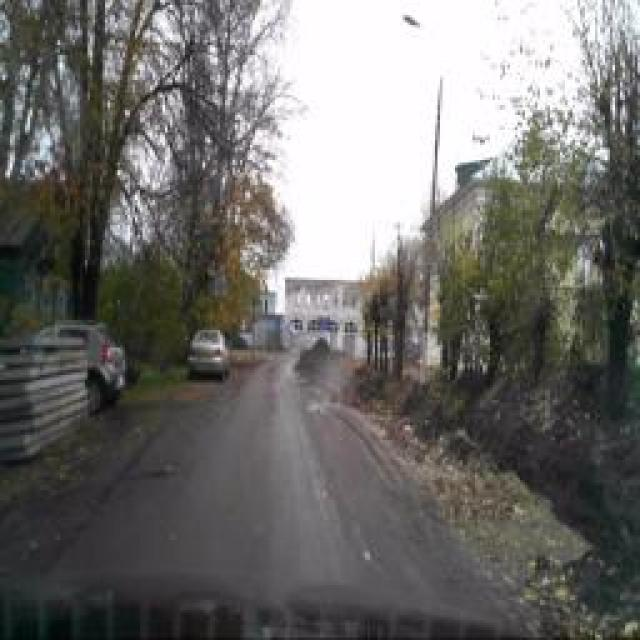sign: (419, 238, 436, 268)
